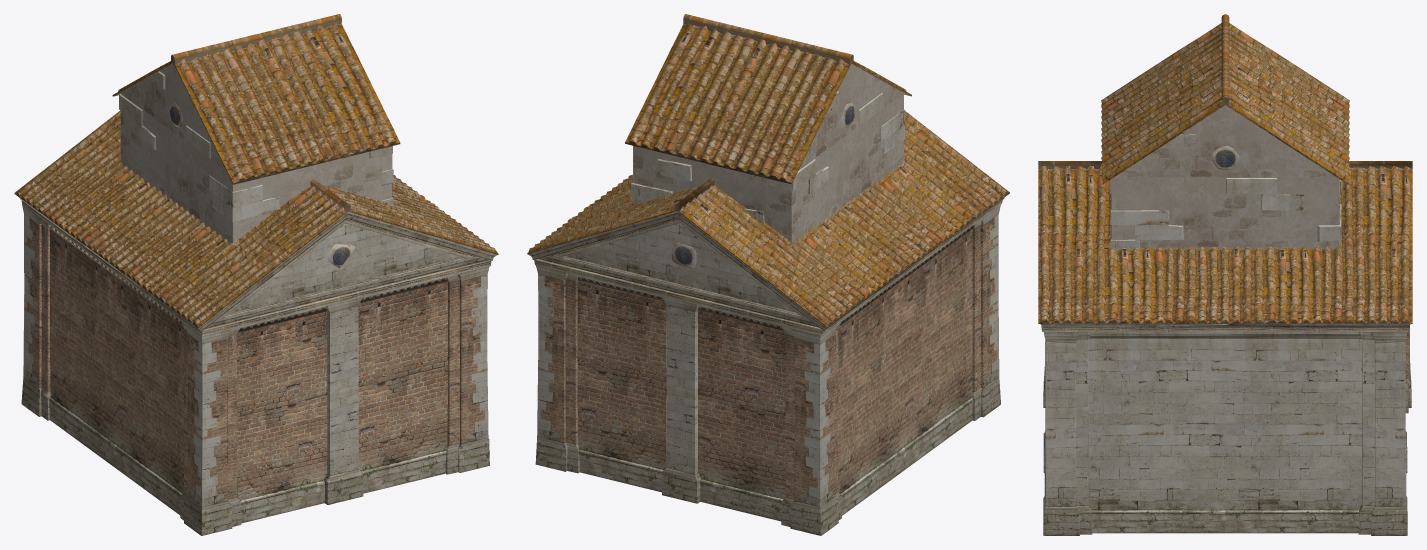
Rendered from Basic7.fbx.
3 views of the same model, side by side, from view 1: azimuth 30°, elevation 25°; view 2: azimuth 150°, elevation 25°; view 3: azimuth 270°, elevation 25° (orthographic). The views are drawn at different scales.
Parts seen in each view (by area): view 1: LV_Campagna_City_CommonBuilding04_SM_CNH; view 2: LV_Campagna_City_CommonBuilding04_SM_CNH; view 3: LV_Campagna_City_CommonBuilding04_SM_CNH.
Boxes of the visible parts, <box> form: LV_Campagna_City_CommonBuilding04_SM_CNH: <box>14,14,498,535</box>; LV_Campagna_City_CommonBuilding04_SM_CNH: <box>527,14,1009,535</box>; LV_Campagna_City_CommonBuilding04_SM_CNH: <box>1038,14,1412,535</box>.
Size of the model in its own units: 3.47 by 4.41 by 3.66.
